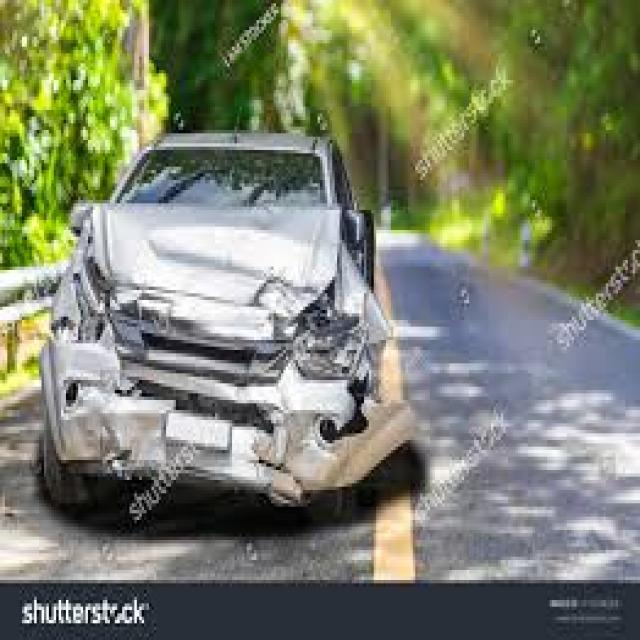severe: (46, 167, 411, 506)
